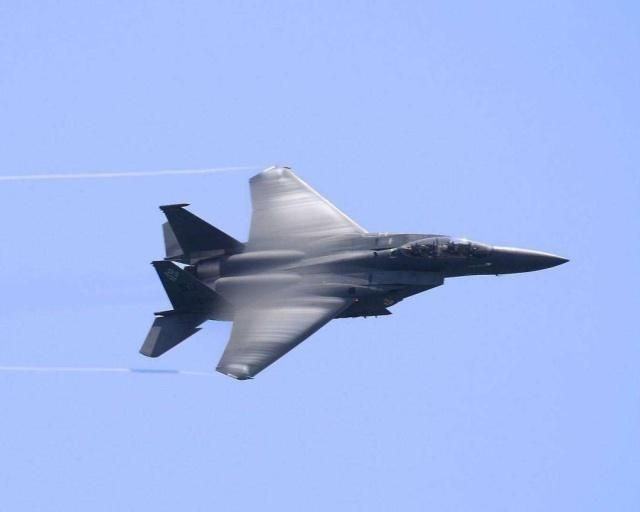airplane: (129, 163, 572, 378)
